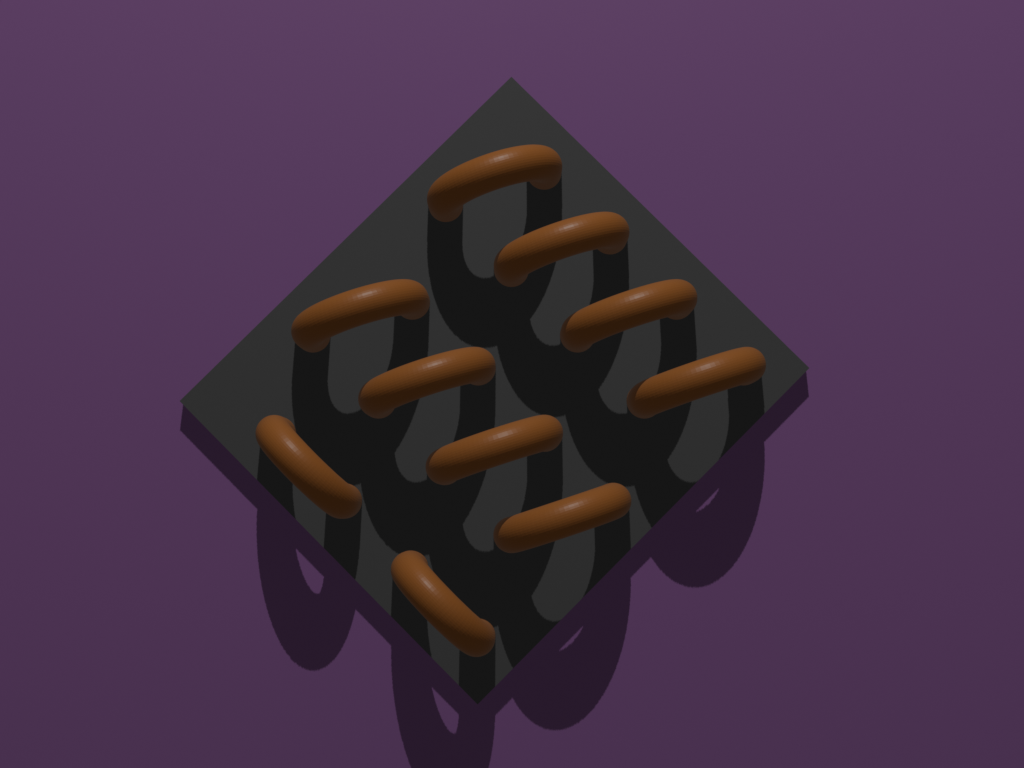return-bend: (367, 532, 521, 684), (226, 397, 385, 543), (275, 258, 444, 366), (412, 395, 581, 503), (481, 466, 649, 574), (546, 264, 715, 371), (343, 328, 511, 435), (411, 127, 579, 234), (478, 193, 646, 300), (616, 328, 784, 435)
